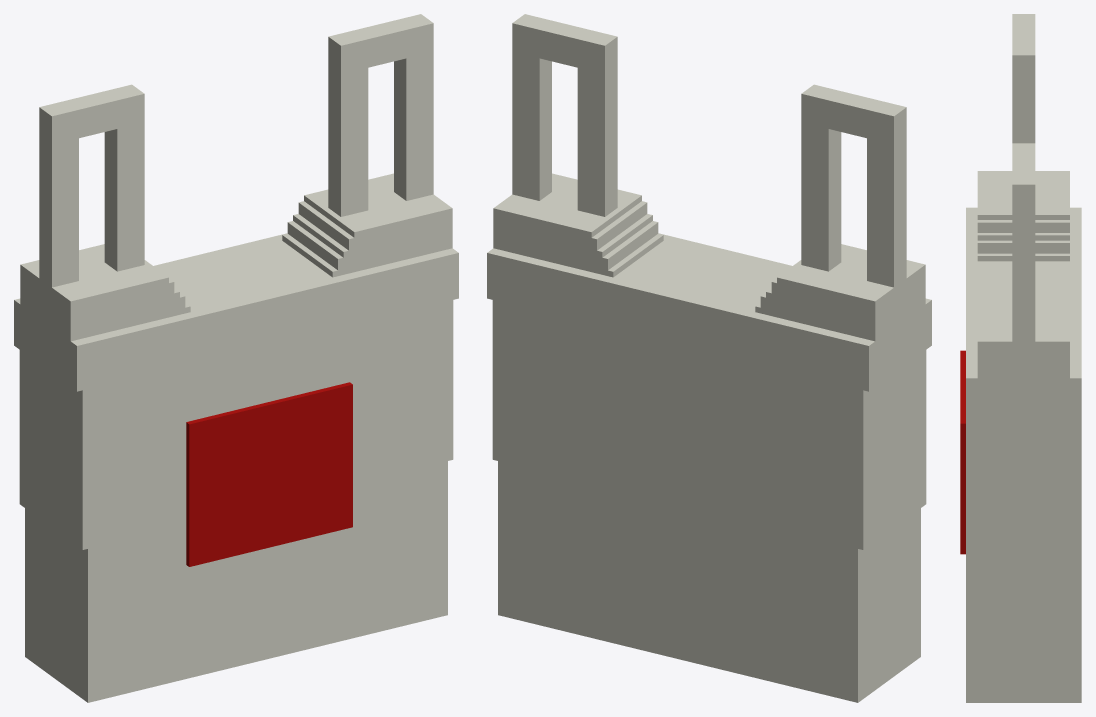
File: bag_plastic.glb
3 views of the same model, side by side, from view 1: azimuth 30°, elevation 25°; view 2: azimuth 150°, elevation 25°; view 3: azimuth 270°, elevation 25° (orthographic). The views are drawn at different scales.
Parts seen in each view (by area): view 1: bag_plastic:compound; view 2: bag_plastic:compound; view 3: bag_plastic:compound.
Boxes of the visible parts, x1,y1,x2,y2 form: bag_plastic:compound: (14,14,458,702); bag_plastic:compound: (487,14,931,702); bag_plastic:compound: (960,14,1081,702).
Bounding box in the file's own units: 0.28 × 0.4 × 0.084.
